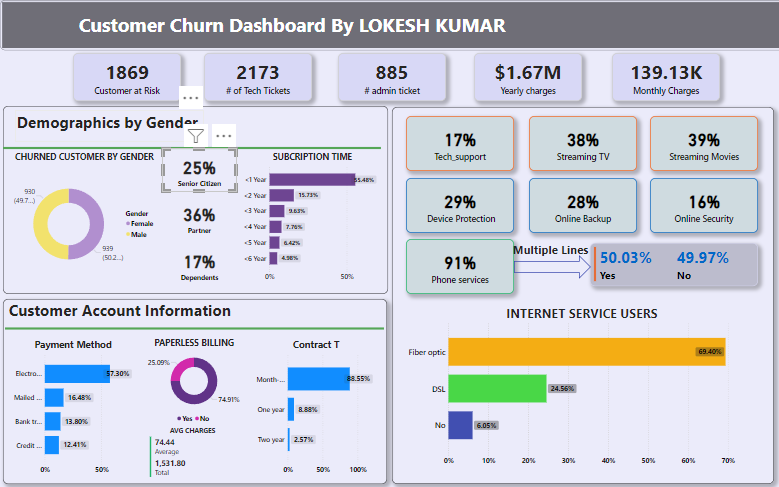

The page's visual inventory and layout, read from the dashboard file:
{"tool":"powerbi","page":{"name":"Page 1","canvas":[2200,1380],"ordinal":0},"visuals":[{"type":"shape","box":[0,0,2199.7,140.8],"z":0},{"type":"textbox","box":[47.7,22.4,1542.7,117.8],"z":1000},{"type":"card","fields":{"Values":["Allmeasures.CUSTOMER AT RISK"]},"box":[204.8,148.7,302.9,134.6],"z":2000},{"type":"card","fields":{"Values":["Allmeasures.# of Tech Tickets"]},"box":[572.2,148.7,302.9,134.6],"z":3000},{"type":"card","fields":{"Values":["Allmeasures.# admin ticket"]},"box":[948,148.7,302.9,134.6],"z":4000},{"type":"card","fields":{"Values":["Allmeasures.Yearly charges"]},"box":[1329.5,148.7,302.9,134.6],"z":5000},{"type":"card","fields":{"Values":["Allmeasures.Monthly Charges"]},"box":[1716.6,148.7,302.9,134.6],"z":6000},{"type":"shape","box":[8.4,297.3,1079.9,527.3],"z":7000},{"type":"shape","box":[8.4,218.8,1060.2,392.7],"z":8000},{"type":"textbox","box":[41.5,307.3,531.7,90.2],"z":9000},{"type":"donutChart","title":"CHURNED CUSTOMER BY GENDER","fields":{"Y":["Allmeasures.CUSTOMER AT RISK"],"Category":["Customer Churn.gender"]},"box":[26.8,409.8,417.1,392.7],"z":10000},{"type":"clusteredBarChart","title":"SUBCRIPTION TIME","fields":{"Category":["Customer Churn.Tenure(in years)"],"Y":["Allmeasures.Total Churn Customer"]},"box":[675.6,417.1,400,380.5],"z":11000},{"type":"card","fields":{"Values":["Allmeasures.Senior Citizen"]},"box":[453.7,414.6,209.8,124.4],"z":12000},{"type":"card","fields":{"Values":["Allmeasures.% of Partner"]},"box":[453.7,546.3,209.8,124.4],"z":13000},{"type":"card","fields":{"Values":["Allmeasures.% of Dependents"]},"box":[453.7,678,209.8,124.4],"z":14000},{"type":"shape","box":[8.4,838.7,1077.1,518.9],"z":15000},{"type":"clusteredBarChart","title":"Payment Method","fields":{"Category":["Customer Churn.PaymentMethod"],"Y":["Allmeasures.Total Churn Customer"]},"box":[19.6,939.6,370.2,401.1],"z":16000},{"type":"shape","box":[14,855.5,1063,131.8],"z":17000},{"type":"clusteredBarChart","title":"Contract T","fields":{"Category":["Customer Churn.Contract"],"Y":["Allmeasures.Total Churn Customer"]},"box":[701.2,939.6,370.2,401.1],"z":18000},{"type":"textbox","box":[19.6,835.9,718,87],"z":19000},{"type":"donutChart","title":"PAPERLESS BILLING","fields":{"Y":["Allmeasures.Total Churn Customer"],"Category":["Customer Churn.PaperlessBilling"]},"box":[395.5,939.6,297.3,255.2],"z":20000},{"type":"shape","box":[1099.5,300.1,1071.5,1057.4],"z":21000},{"type":"card","fields":{"Values":["Allmeasures.Tech_support"]},"box":[1138.8,325.4,302.9,154.3],"z":22000},{"type":"card","fields":{"Values":["Allmeasures.% Streaming TV"]},"box":[1483.8,325.4,302.9,154.3],"z":23000},{"type":"card","fields":{"Values":["Allmeasures.% Streaming Movies"]},"box":[1823.2,325.4,302.9,154.3],"z":24000},{"type":"card","fields":{"Values":["Allmeasures.% Device Protection"]},"box":[1138.8,499.3,302.9,154.3],"z":25000},{"type":"card","fields":{"Values":["Allmeasures.% Online Security"]},"box":[1823.2,499.3,302.9,154.3],"z":26000},{"type":"card","fields":{"Values":["Allmeasures.% Online Backup"]},"box":[1483.8,499.3,302.9,154.3],"z":27000},{"type":"card","fields":{"Values":["Allmeasures.% Phone services"]},"box":[1138.8,670.4,302.9,154.3],"z":28000},{"type":"clusteredBarChart","title":"INTERNET SERVICE USERS","fields":{"Category":["Customer Churn.InternetService"],"Y":["Allmeasures.Total Churn Customer"]},"box":[1138.8,855.5,987.3,460],"z":29000},{"type":"multiRowCard","fields":{"Values":["Allmeasures.% Yes multipleLine","Allmeasures.% No multipleLine"]},"box":[1654.9,681.6,471.2,120.6],"z":30000},{"type":"shape","box":[1441.7,715.2,216,67.3],"z":31000},{"type":"textbox","box":[1433.3,673.2,241.2,72.9],"z":32000},{"type":"multiRowCard","title":"AVG CHARGES","fields":{"Values":["Allmeasures.Average","Allmeasures.Total"]},"box":[415.1,1194.9,249.6,162.7],"z":33000}]}

Visuals, with their boxes in screenshot pixels (x1, y1, x2, y2), scaled from the page's 2200x1380 canvas onto the 779x487 screenshot:
shape: select_region(0, 0, 778, 50)
textbox: select_region(17, 8, 563, 49)
card - Allmeasures.CUSTOMER AT RISK: select_region(73, 52, 180, 100)
card - Allmeasures.# of Tech Tickets: select_region(203, 52, 310, 100)
card - Allmeasures.# admin ticket: select_region(336, 52, 443, 100)
card - Allmeasures.Yearly charges: select_region(471, 52, 578, 100)
card - Allmeasures.Monthly Charges: select_region(608, 52, 715, 100)
shape: select_region(3, 105, 385, 291)
shape: select_region(3, 77, 378, 216)
textbox: select_region(15, 108, 203, 140)
"CHURNED CUSTOMER BY GENDER" donutChart: select_region(9, 145, 157, 283)
"SUBCRIPTION TIME" clusteredBarChart: select_region(239, 147, 381, 281)
card - Allmeasures.Senior Citizen: select_region(161, 146, 235, 190)
card - Allmeasures.% of Partner: select_region(161, 193, 235, 237)
card - Allmeasures.% of Dependents: select_region(161, 239, 235, 283)
shape: select_region(3, 296, 384, 479)
"Payment Method" clusteredBarChart: select_region(7, 332, 138, 473)
shape: select_region(5, 302, 381, 348)
"Contract T" clusteredBarChart: select_region(248, 332, 379, 473)
textbox: select_region(7, 295, 261, 326)
"PAPERLESS BILLING" donutChart: select_region(140, 332, 245, 422)
shape: select_region(389, 106, 769, 479)
card - Allmeasures.Tech_support: select_region(403, 115, 510, 169)
card - Allmeasures.% Streaming TV: select_region(525, 115, 633, 169)
card - Allmeasures.% Streaming Movies: select_region(646, 115, 753, 169)
card - Allmeasures.% Device Protection: select_region(403, 176, 510, 231)
card - Allmeasures.% Online Security: select_region(646, 176, 753, 231)
card - Allmeasures.% Online Backup: select_region(525, 176, 633, 231)
card - Allmeasures.% Phone services: select_region(403, 237, 510, 291)
"INTERNET SERVICE USERS" clusteredBarChart: select_region(403, 302, 753, 464)
multiRowCard - Allmeasures.% Yes multipleLine x Allmeasures.% No multipleLine: select_region(586, 241, 753, 283)
shape: select_region(510, 252, 587, 276)
textbox: select_region(508, 238, 593, 263)
"AVG CHARGES" multiRowCard: select_region(147, 422, 235, 479)
